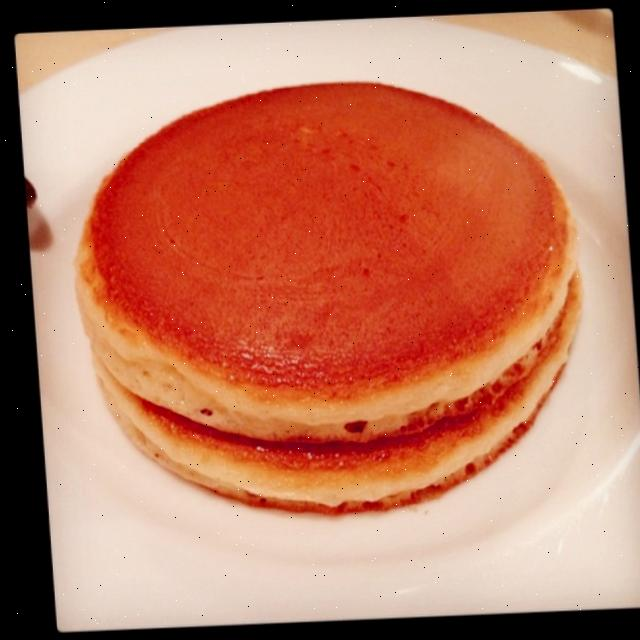汤锅炖物: (1, 42, 640, 640)
